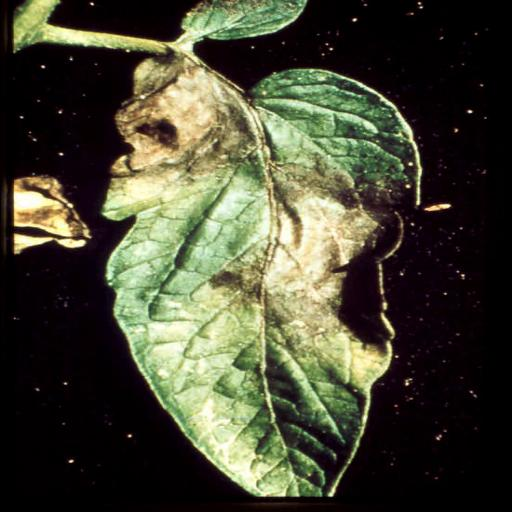Late Blight: (98, 54, 422, 500)
